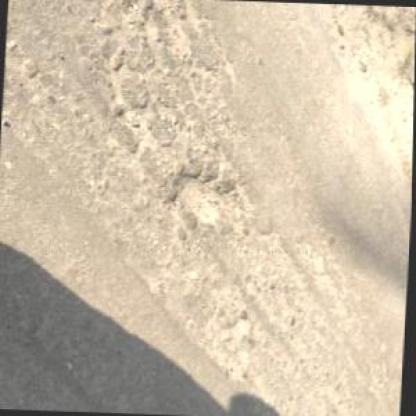pothole: (169, 169, 233, 225)
